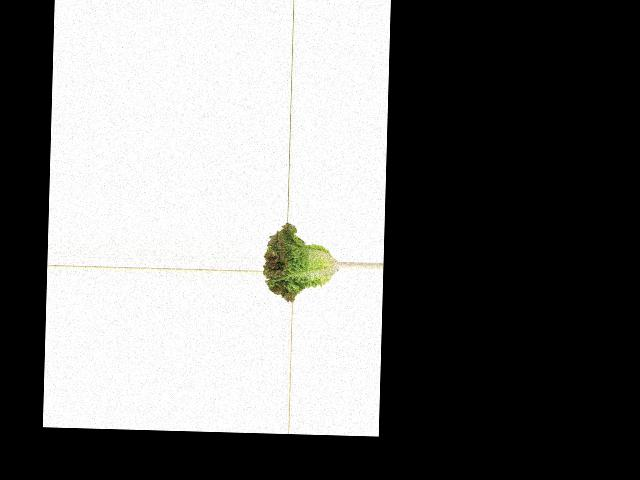lettuce: (263, 222, 340, 302)
